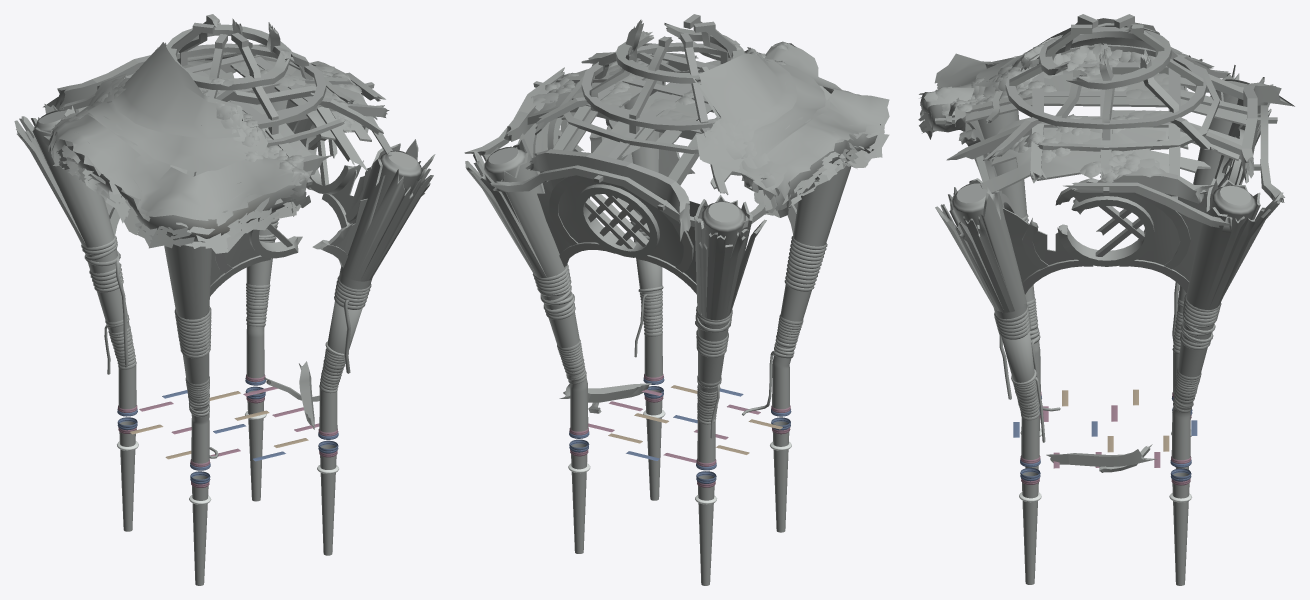
The picture shows the model from 3 angles, left to right: view 1: azimuth 30°, elevation 25°; view 2: azimuth 150°, elevation 25°; view 3: azimuth 270°, elevation 25°; orthographic projection. The views are drawn at different scales.
Visible parts, largest first — view 1: G:\FFXIV-MapTools\exports\y6f2\bg\ex5\02_ykt_y6\fld\y6f2\bgp (×11); view 2: G:\FFXIV-MapTools\exports\y6f2\bg\ex5\02_ykt_y6\fld\y6f2\bgp (×11); view 3: G:\FFXIV-MapTools\exports\y6f2\bg\ex5\02_ykt_y6\fld\y6f2\bgp (×11).
Part boxes in pixels (x1,y1,x2,y2): G:\FFXIV-MapTools\exports\y6f2\bg\ex5\02_ykt_y6\fld\y6f2\bgp (×11): (14, 14, 435, 585); G:\FFXIV-MapTools\exports\y6f2\bg\ex5\02_ykt_y6\fld\y6f2\bgp (×11): (464, 14, 889, 585); G:\FFXIV-MapTools\exports\y6f2\bg\ex5\02_ykt_y6\fld\y6f2\bgp (×11): (918, 14, 1294, 585).
Bounding box in the file's own units: 35.55 × 55.27 × 35.97.
